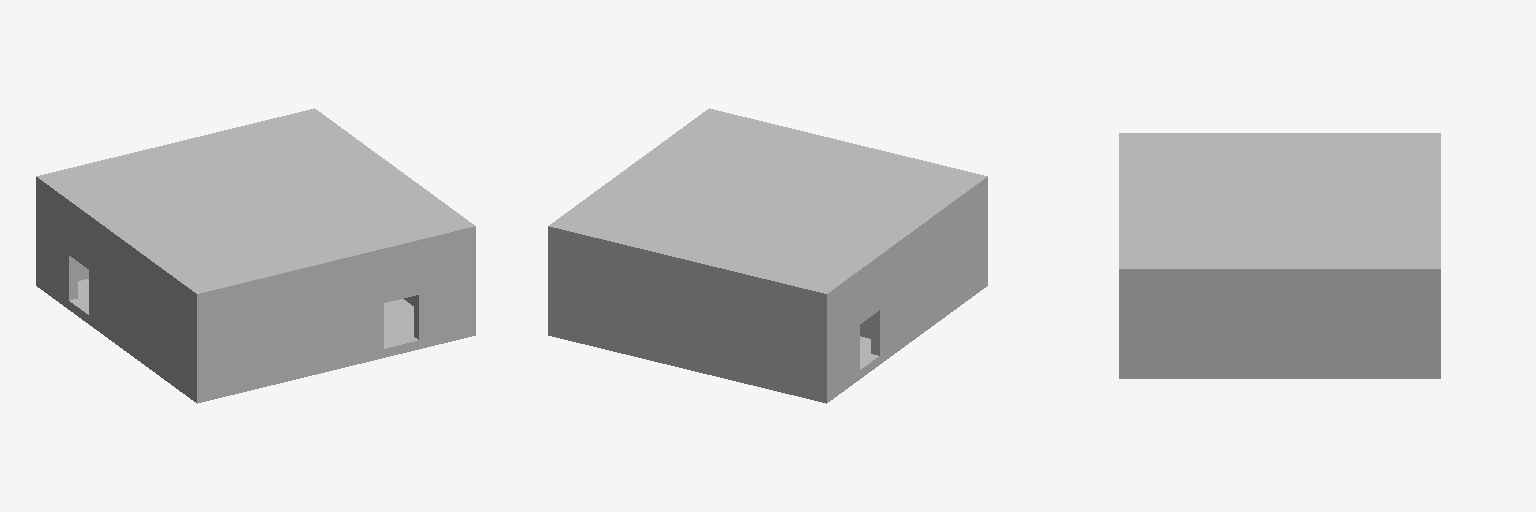
File: 90do_bokdo_L.obj
3 renders of one model, left to right at view 1: azimuth 30°, elevation 25°; view 2: azimuth 150°, elevation 25°; view 3: azimuth 270°, elevation 25°, orthographic.
Parts seen in each view (by area): view 1: Cube.007, Cube.004, Cube.003, Cube.001, Cube.005, Cube.006, Cube.024, Cube.023; view 2: Cube.007, Cube, Cube.003, Cube.001, Cube.006, Cube.023, Cube.008; view 3: Cube.007, Cube.008, Cube.001, Cube.005.
Part boxes in pixels (left/top/right/bottom): Cube.007: left=36, top=108, right=475, bottom=302; Cube.004: left=206, top=258, right=383, bottom=391; Cube.003: left=89, top=225, right=205, bottom=393; Cube.001: left=36, top=277, right=475, bottom=403; Cube.005: left=414, top=235, right=475, bottom=339; Cube.006: left=36, top=186, right=77, bottom=299; Cube.024: left=384, top=249, right=418, bottom=302; Cube.023: left=69, top=210, right=88, bottom=268; Cube.007: left=548, top=108, right=987, bottom=302; Cube: left=557, top=238, right=817, bottom=391; Cube.003: left=871, top=186, right=987, bottom=355; Cube.001: left=548, top=277, right=987, bottom=403; Cube.006: left=818, top=279, right=859, bottom=393; Cube.023: left=860, top=265, right=879, bottom=323; Cube.008: left=548, top=235, right=556, bottom=328; Cube.007: left=1119, top=133, right=1440, bottom=277; Cube.008: left=1129, top=278, right=1440, bottom=369; Cube.001: left=1119, top=370, right=1440, bottom=378; Cube.005: left=1119, top=278, right=1128, bottom=369.
Bounding box in the file's own units: 32 × 12 × 32.